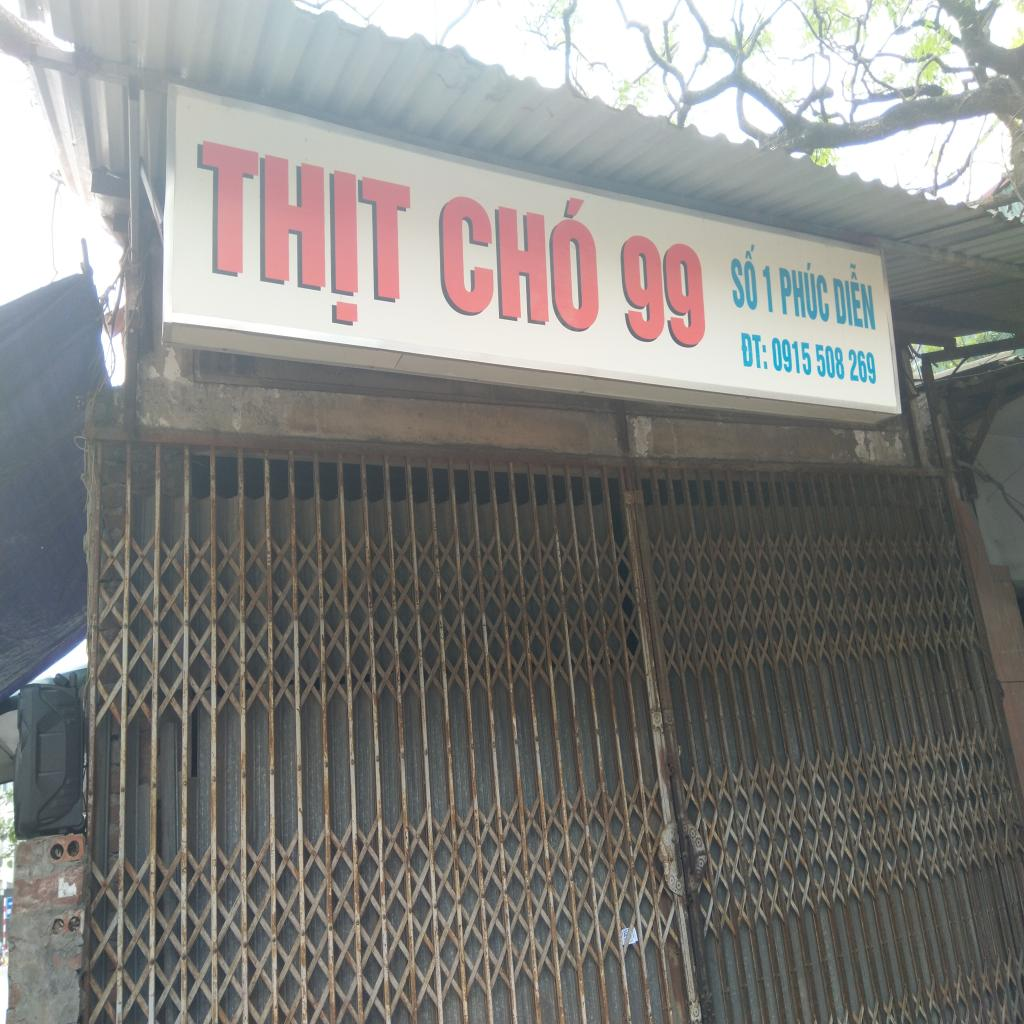text: (190, 138, 413, 336), (437, 168, 600, 336), (620, 231, 708, 352), (770, 336, 878, 386), (778, 256, 831, 324), (830, 258, 877, 331), (728, 239, 759, 312), (740, 332, 768, 371), (762, 266, 774, 314)
